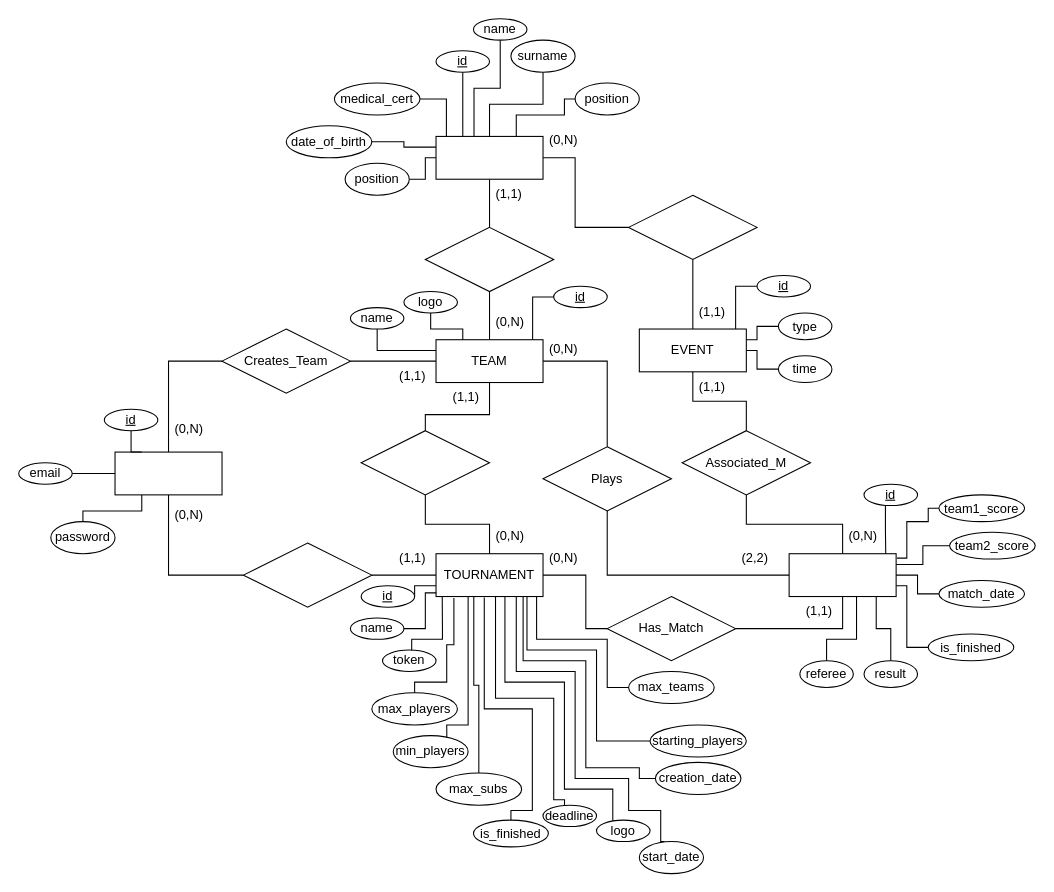
Some shapes in this 1054 by 892 pixel diagram are drawn without their labels. The box of each missing label's shape, as (x1, y1, x2, y2) in pixels:
Associated_P: (628, 194, 757, 259)
Belongs: (424, 226, 554, 292)
Creates_Tour: (242, 542, 372, 607)
Has_Team: (360, 430, 490, 495)
MATCH: (788, 553, 896, 597)
PLAYER: (435, 135, 543, 179)
USER: (114, 451, 222, 495)
